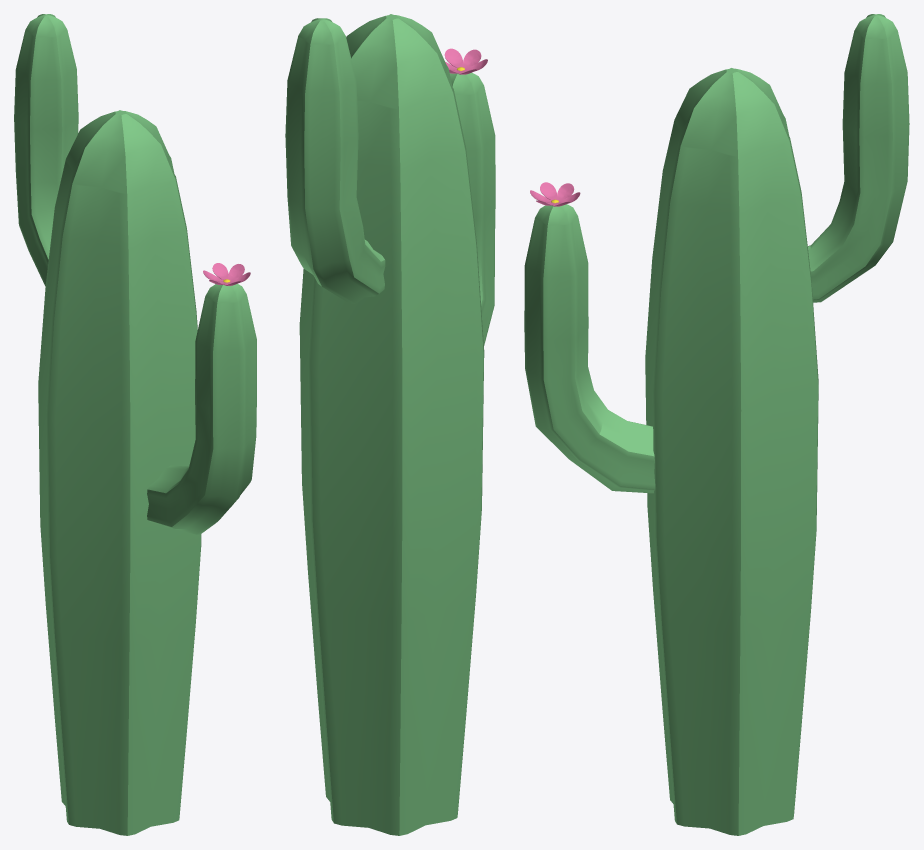
File: Cactus_1.fbx
The picture shows the model from 3 angles, left to right: view 1: azimuth 30°, elevation 25°; view 2: azimuth 150°, elevation 25°; view 3: azimuth 270°, elevation 25°; orthographic projection. The views are drawn at different scales.
Parts seen in each view (by area): view 1: flower_4; view 2: flower_4; view 3: flower_4.
Boxes of the visible parts, left/top/right/bottom form: flower_4: left=14, top=14, right=256, bottom=835; flower_4: left=285, top=14, right=495, bottom=835; flower_4: left=524, top=14, right=909, bottom=835.
Size of the model in its own units: 58.57 by 272 by 120.
